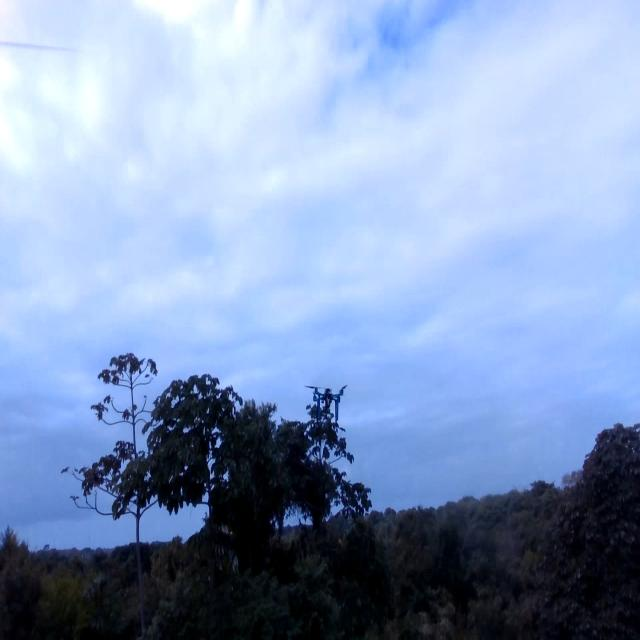-uav-: (305, 374, 349, 426)
